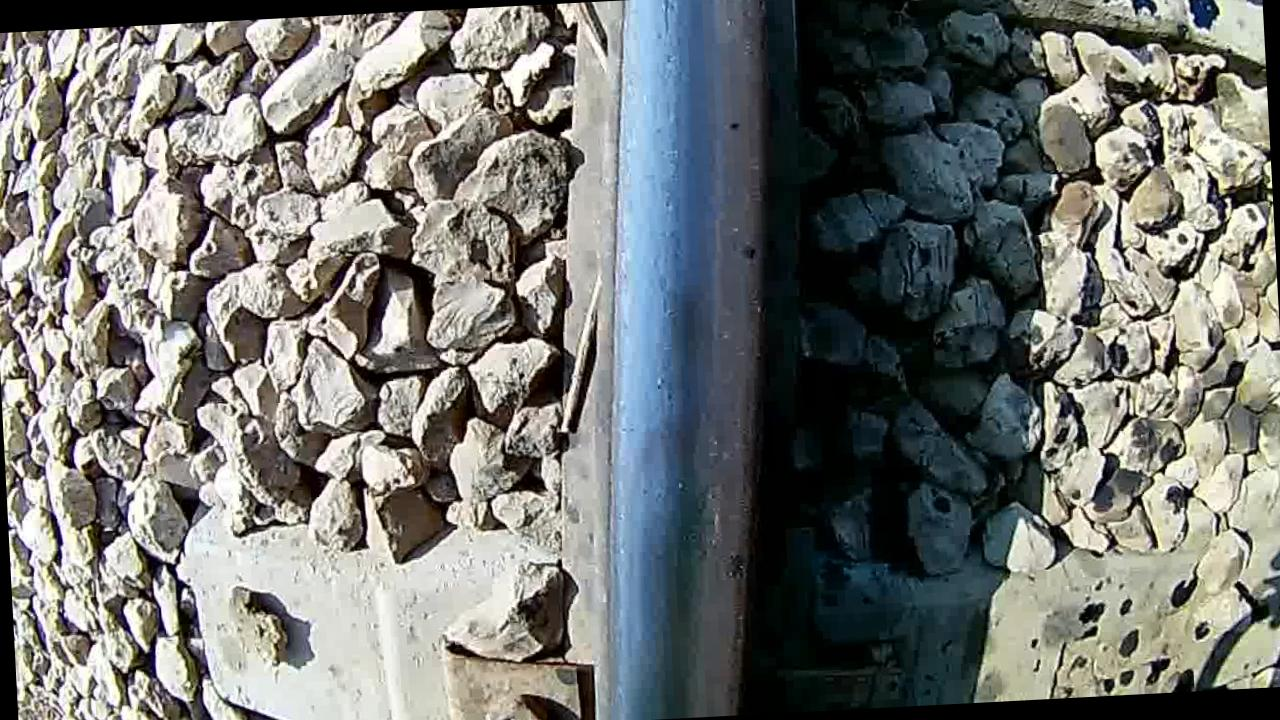crack: (617, 0, 804, 716)
